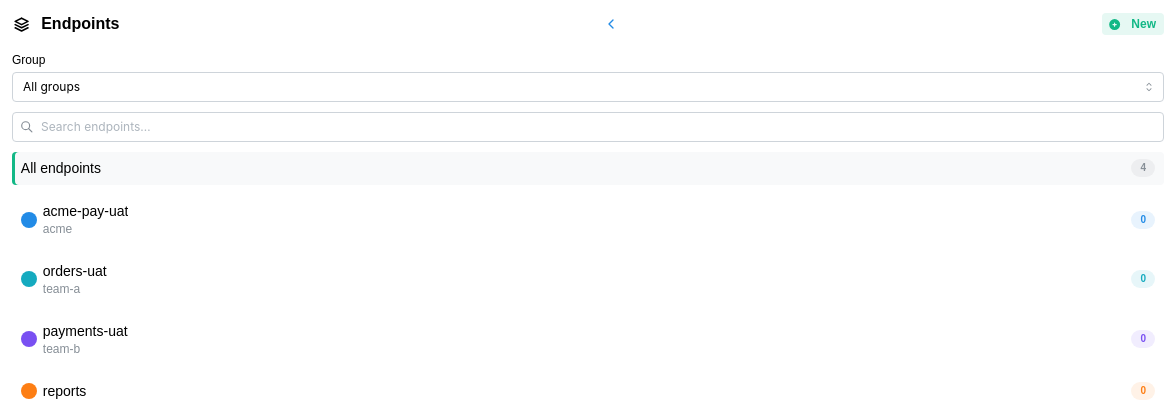
Test case: EndpointRail search › filters by slug substring (case-insensitive)
Type "pay" into the field labelled "Search endpoints…" at (588, 127), box 12,112 -> 1164,142
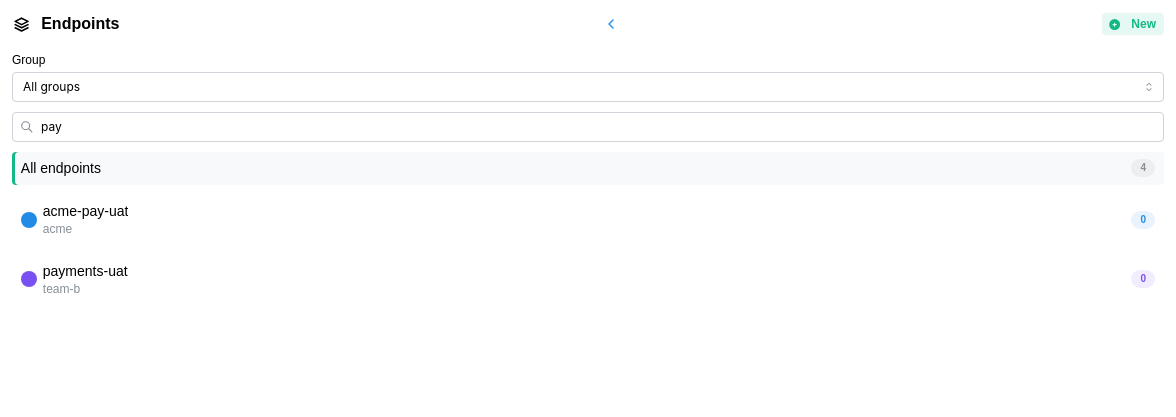
Expected: the text "acme-pay-uat" is shown, 43,201 -> 128,221
Expected: the button "orders-uat" is gone
Expected: the button "reports" is gone
